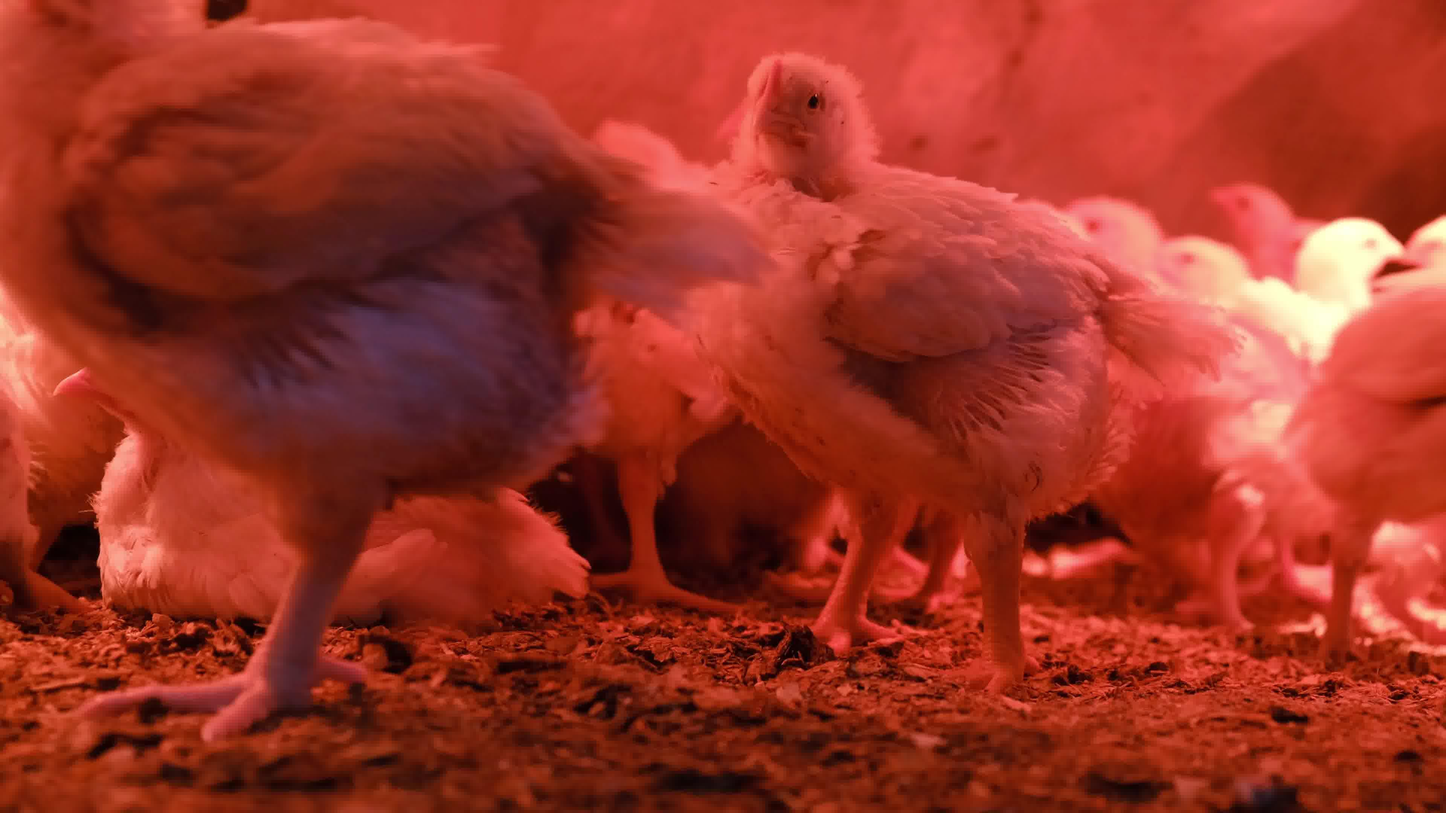AbNormal: (53, 332, 588, 614), (2, 364, 82, 620)
Normal: (0, 0, 774, 736), (716, 53, 1245, 699), (1043, 187, 1290, 641), (1302, 279, 1443, 673), (1164, 232, 1301, 396), (1293, 207, 1405, 319), (1202, 172, 1305, 277), (1407, 215, 1446, 289)
